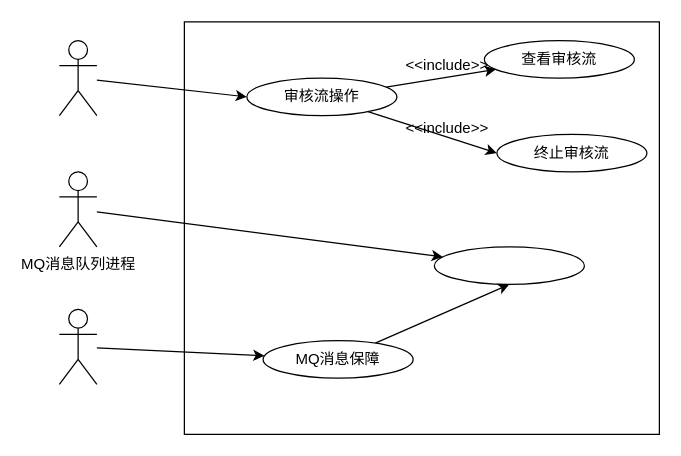
Some shapes in this 681 by 456 pixel diagram are drawn without their labels. The shapes that lost their labels are listed below. From the top down, each one's box as (x1, y1, x2, y2) in pixels, then its label:
(58, 39, 97, 116): 运营
(433, 246, 584, 284): 审核权转移
(58, 308, 97, 384): E-Scheduler
